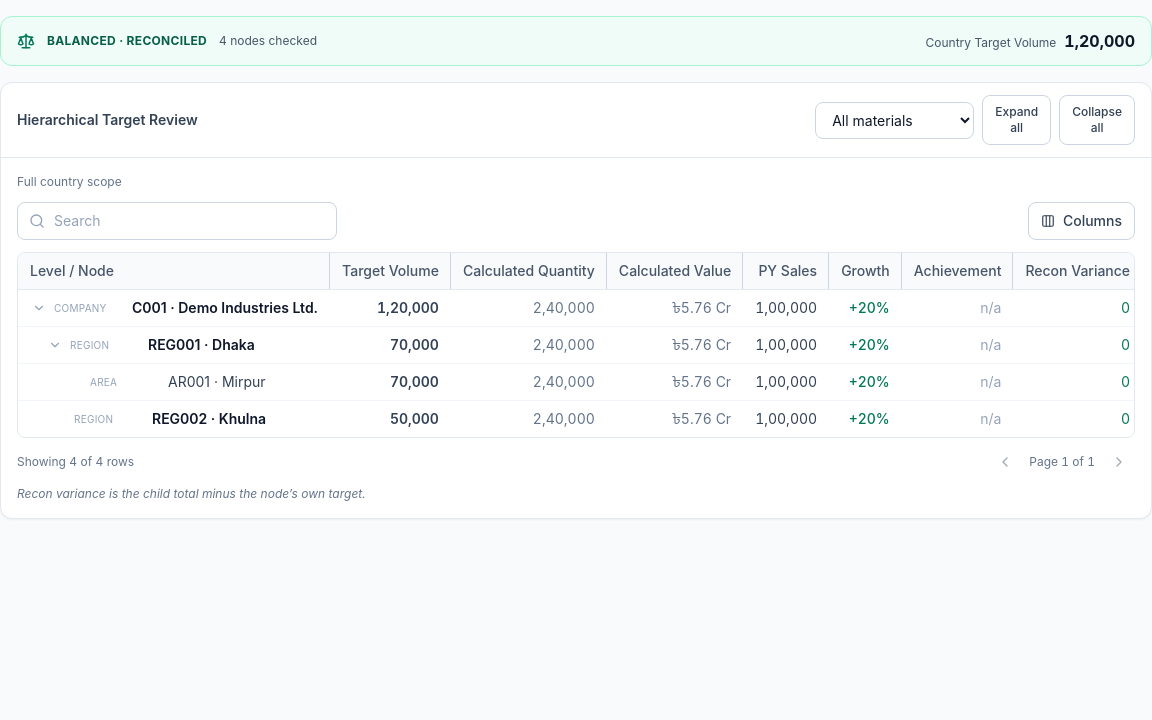
ReviewTree › collapsing the root hides everything below it
Click the button named "Collapse" next to "Company" at [39, 308], box [30, 299, 48, 317]
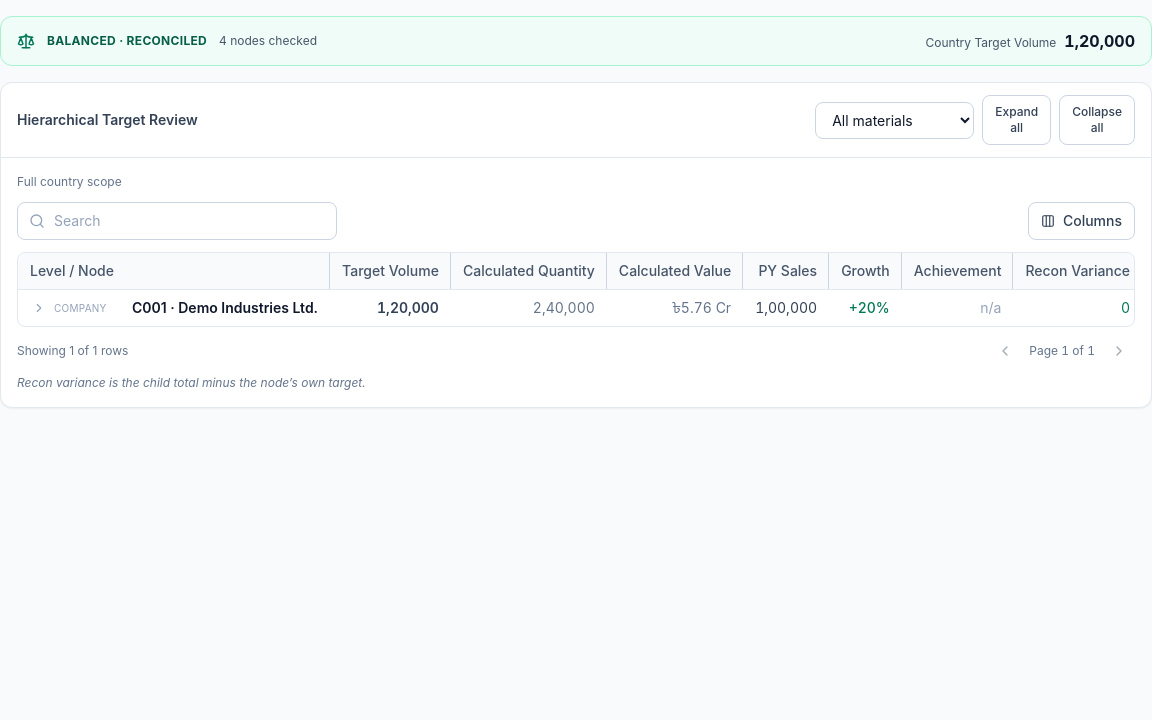
Expected: the text "C001 · Demo Industries Ltd." is shown, [132, 298, 318, 318]
Expected: the text "REG001" is gone
Expected: the text "REG002" is gone
